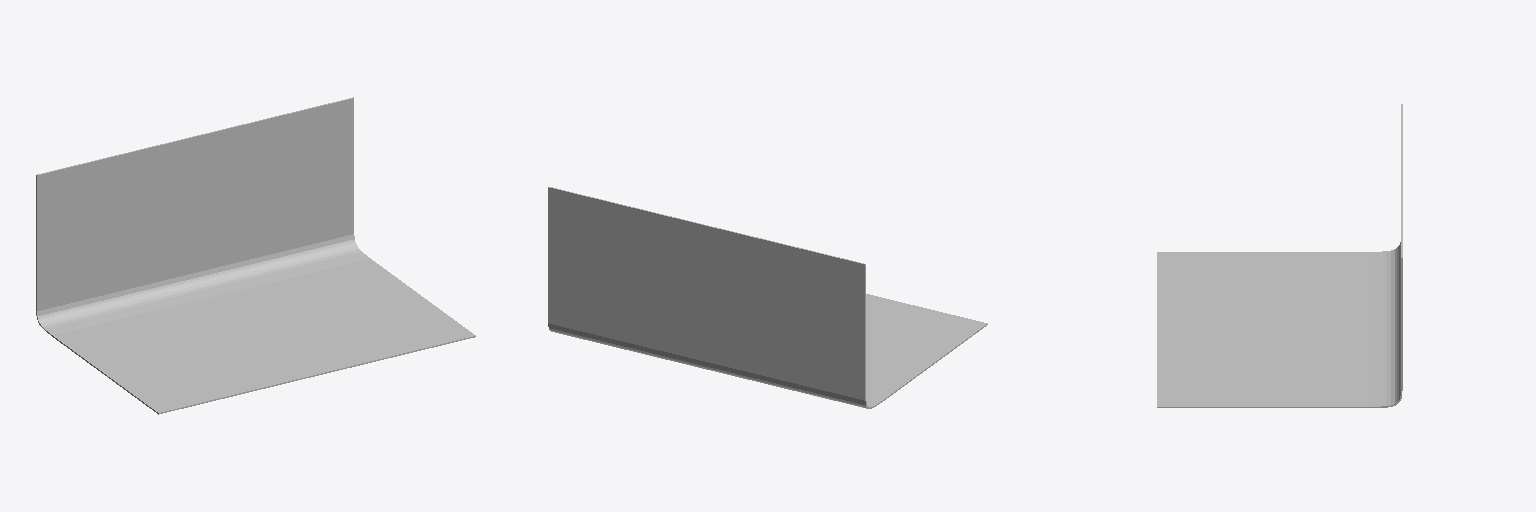
File: background3.obj
3 views of the same model, side by side, from view 1: azimuth 30°, elevation 25°; view 2: azimuth 150°, elevation 25°; view 3: azimuth 270°, elevation 25° (orthographic).
Parts seen in each view (by area): view 1: pasted__pPlane1 group; view 2: pasted__pPlane1 group; view 3: pasted__pPlane1 group.
Part boxes in pixels (left/top/right/bottom): pasted__pPlane1 group: left=36, top=97, right=475, bottom=414; pasted__pPlane1 group: left=548, top=187, right=987, bottom=408; pasted__pPlane1 group: left=1157, top=104, right=1402, bottom=407.
Size of the model in its own units: 161 by 72.73 by 108.